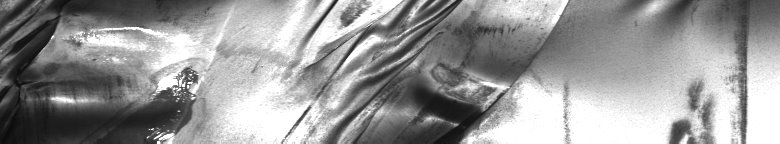ke: (4, 4, 204, 136)
